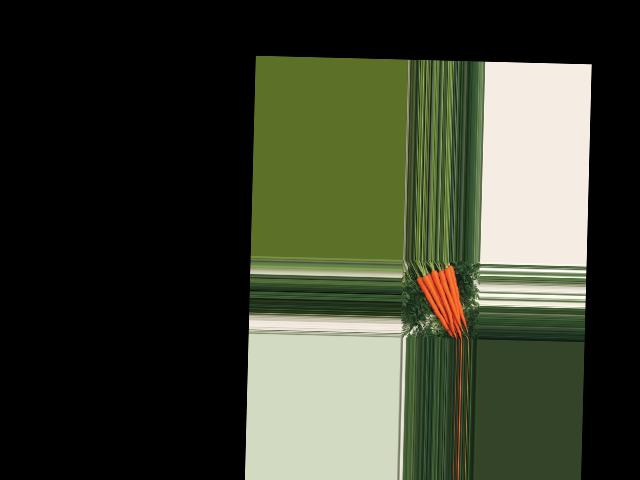carrot: (442, 263, 472, 335)
